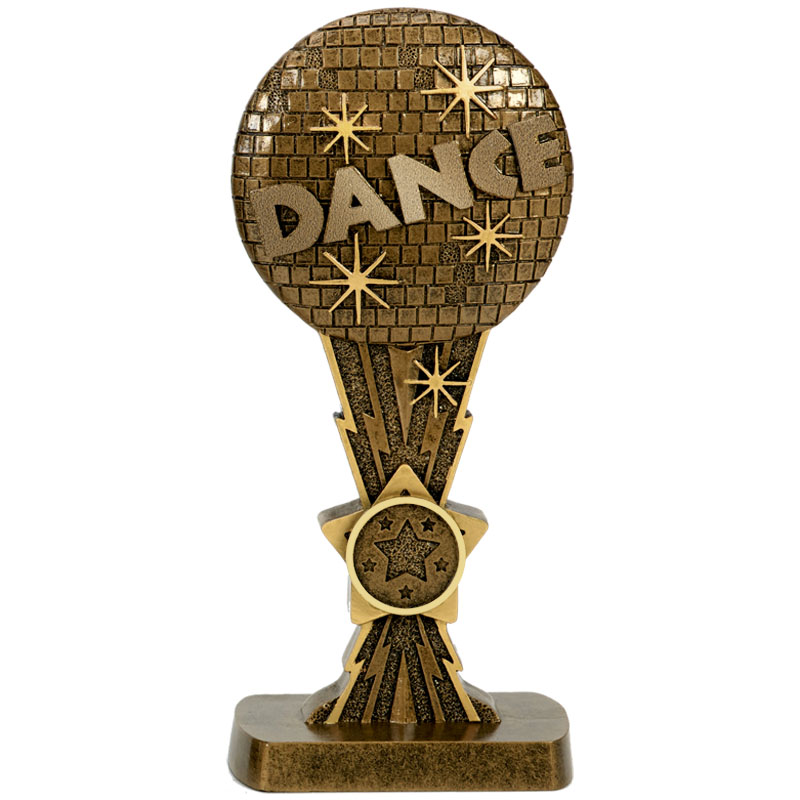trophy: (226, 2, 587, 793)
